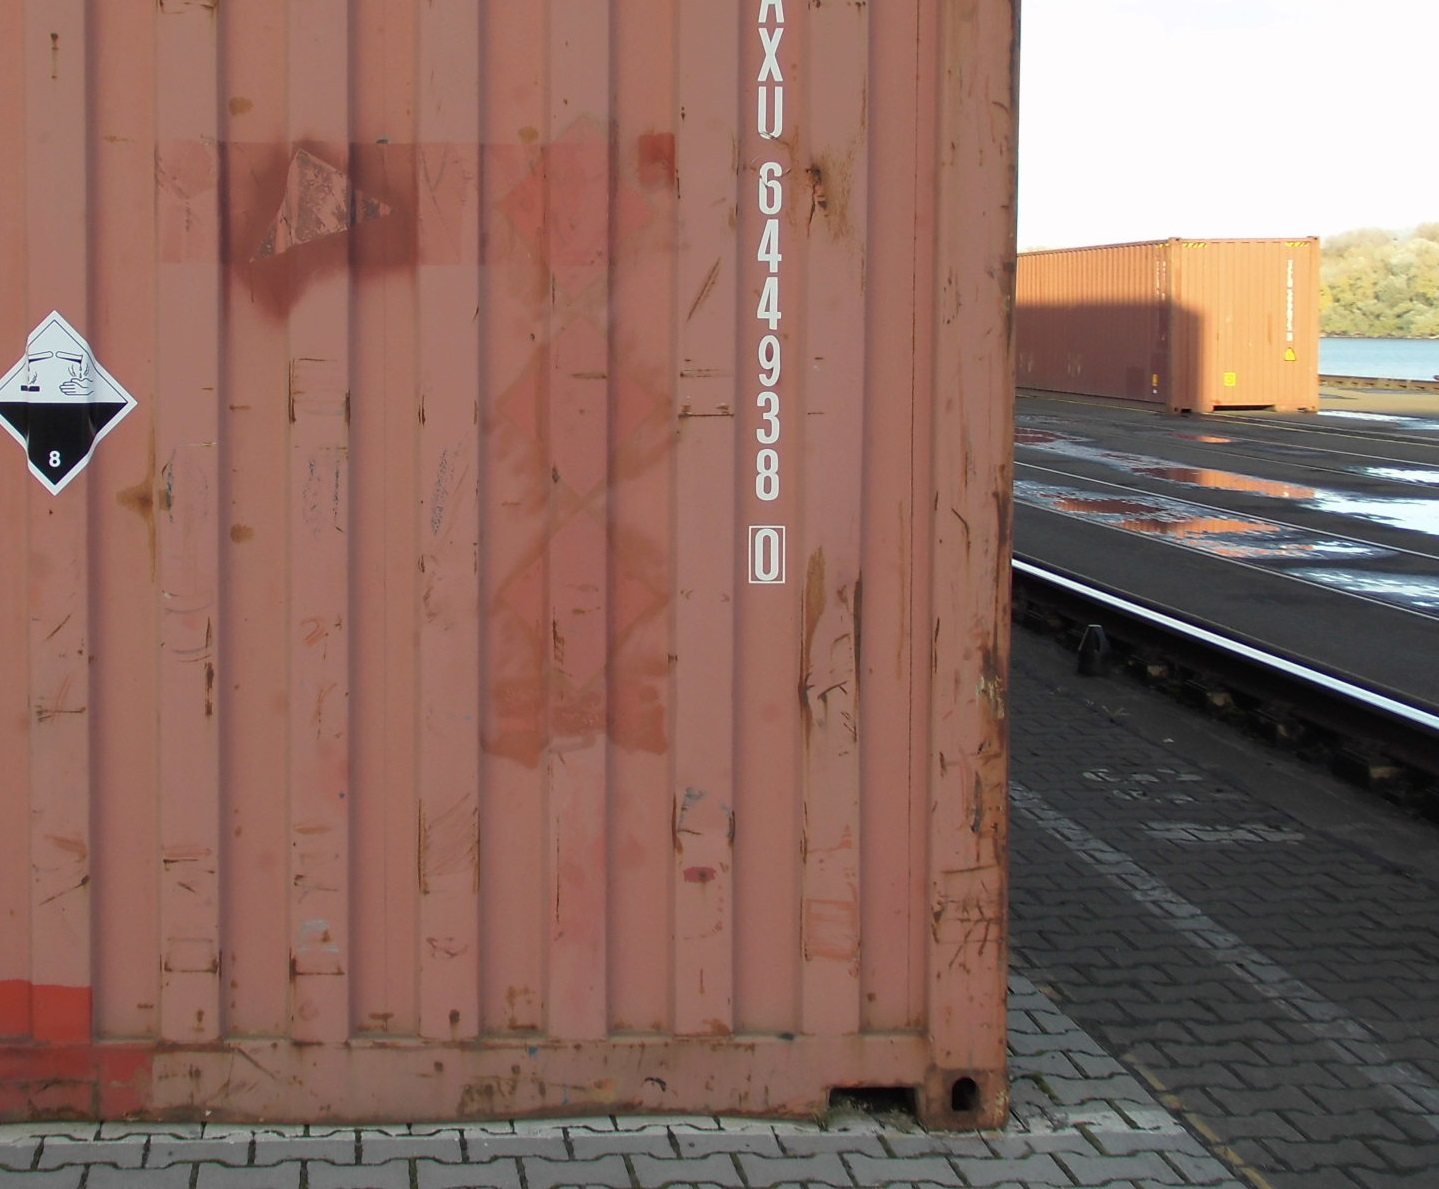container_no_door: (8, 1, 1023, 1129), (1178, 237, 1318, 412)
